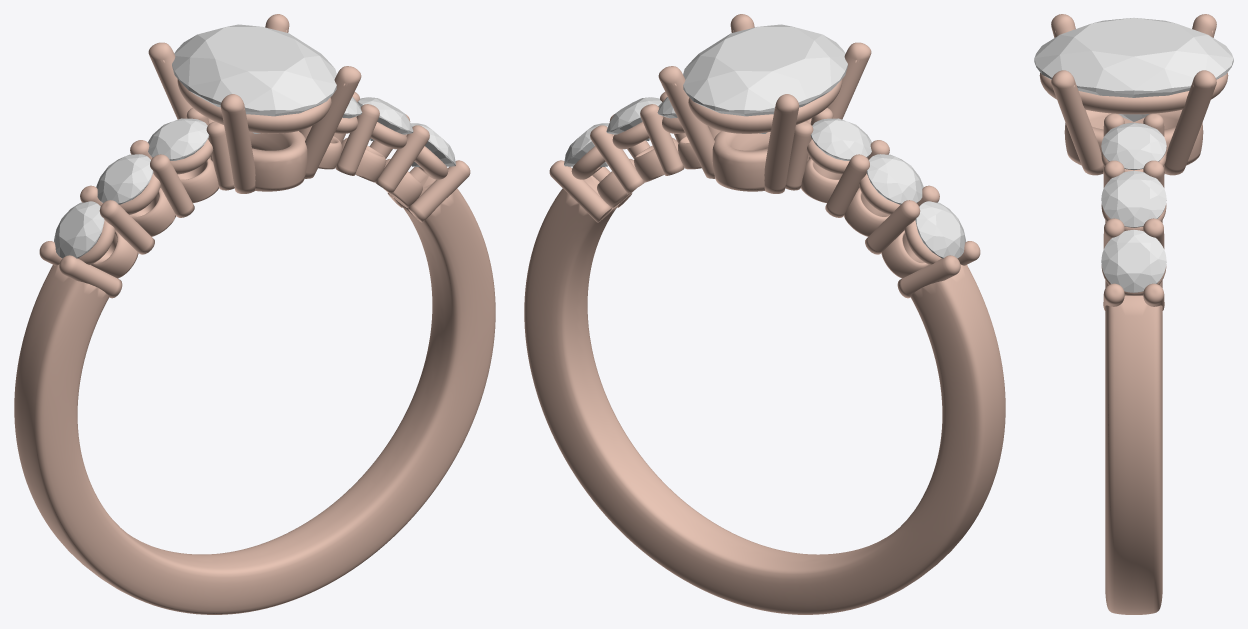
The model's file is diamond-oval-rosegold-4prong-straightband-7stone.glb.
3 renders of one model, left to right at view 1: azimuth 30°, elevation 25°; view 2: azimuth 150°, elevation 25°; view 3: azimuth 270°, elevation 25°, orthographic.
Visible parts, largest first — view 1: metal, stone, side, side.001, side.002, side.004, side.003; view 2: metal, stone, side, side.001, side.002, side.004, side.003; view 3: metal, stone, side.003, side.004, side.005.
Part boxes in pixels (box(x1,y1,x2,y2)): metal: box(14, 14, 495, 614); stone: box(172, 24, 336, 133); side: box(54, 201, 104, 258); side.001: box(96, 154, 153, 204); side.002: box(148, 118, 209, 160); side.004: box(357, 97, 413, 140); side.003: box(410, 123, 455, 166); metal: box(524, 14, 1005, 614); stone: box(683, 24, 847, 133); side: box(915, 201, 965, 258); side.001: box(866, 154, 923, 204); side.002: box(810, 118, 871, 160); side.004: box(606, 97, 662, 140); side.003: box(564, 123, 609, 166); metal: box(1039, 14, 1228, 614); stone: box(1034, 17, 1233, 121); side.003: box(1101, 230, 1166, 292); side.004: box(1101, 170, 1166, 227); side.005: box(1101, 122, 1166, 170).
Size of the model in its own units: 20.5 by 23.4 by 7.64.
